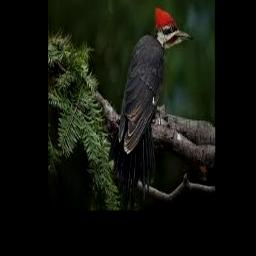Woodpecker: (109, 5, 192, 210)
